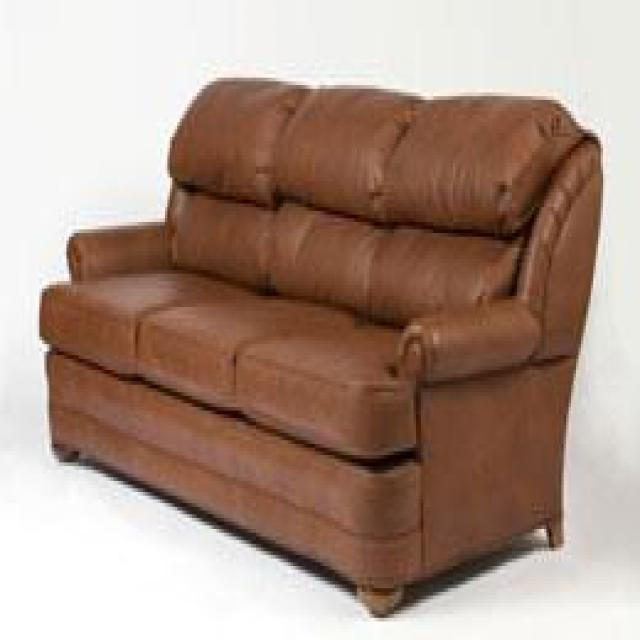sofa: (36, 73, 604, 622)
